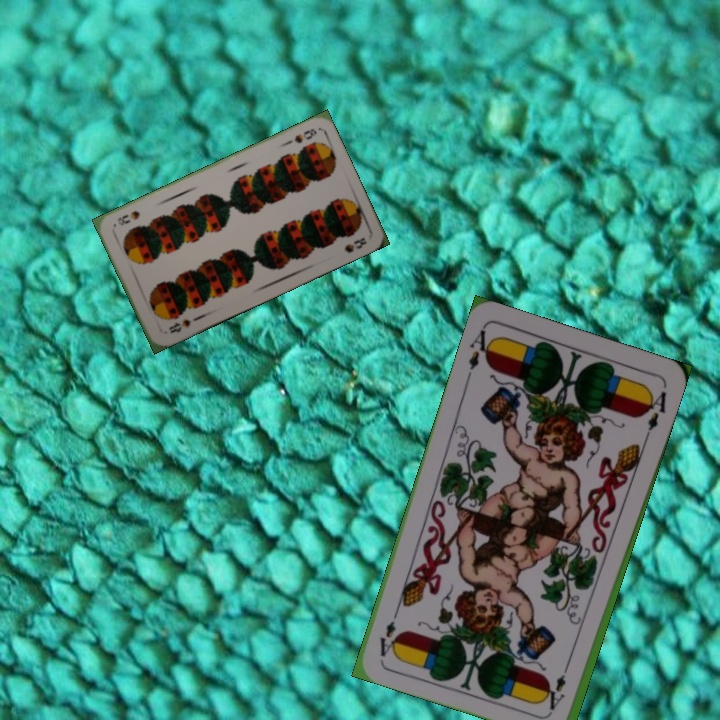EA: (462, 324, 497, 382), (545, 656, 573, 713)
S8: (281, 125, 319, 148), (164, 314, 194, 336)
